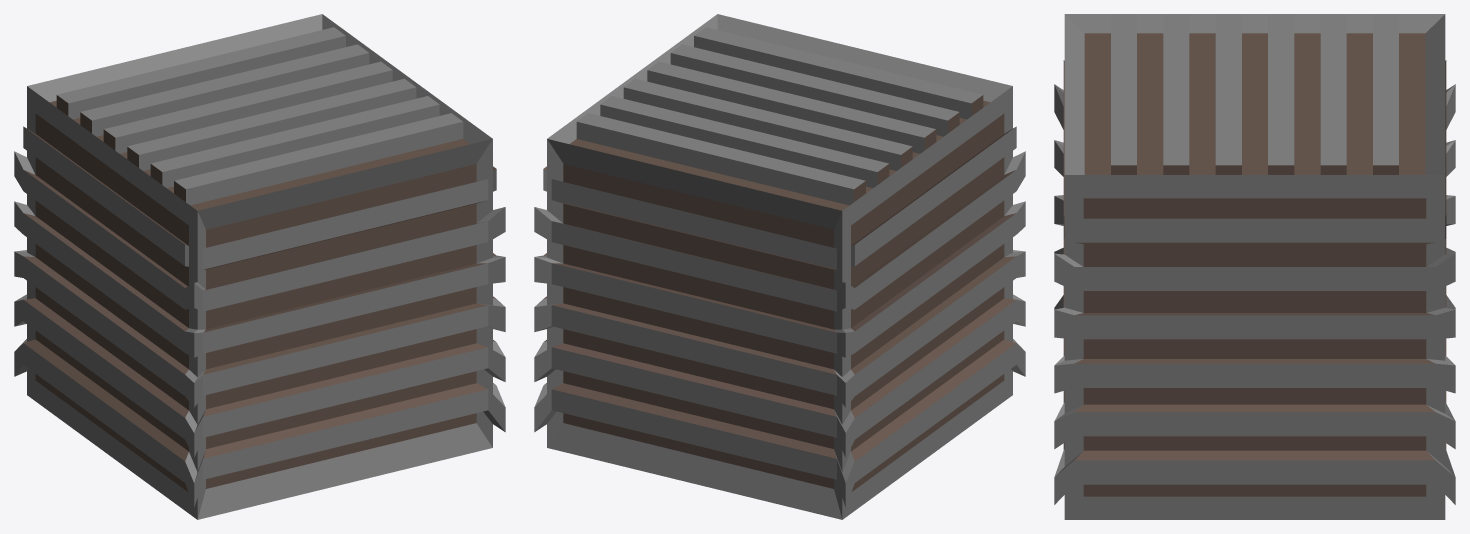
File: Crate_01.fbx
3 views of the same model, side by side, from view 1: azimuth 30°, elevation 25°; view 2: azimuth 150°, elevation 25°; view 3: azimuth 270°, elevation 25° (orthographic). The views are drawn at different scales.
Visible parts, largest first — view 1: Crate_01; view 2: Crate_01; view 3: Crate_01.
Part boxes in pixels (x1,y1,x2,y2): Crate_01: (14,14,505,519); Crate_01: (534,14,1025,519); Crate_01: (1054,14,1455,519).
Size of the model in its own units: 219 by 211 by 219.
